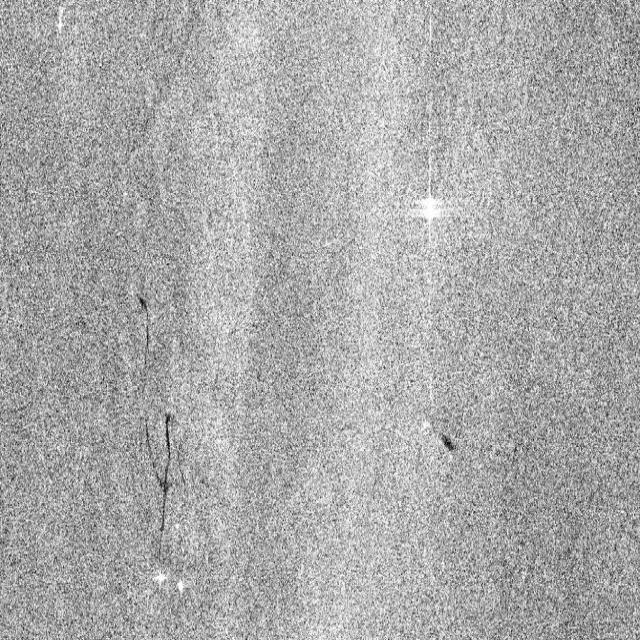oil-spill: (143, 411, 186, 569), (132, 290, 156, 374), (437, 421, 459, 462)
ship: (402, 167, 454, 246), (50, 5, 68, 45), (152, 570, 169, 592), (174, 577, 189, 599)
